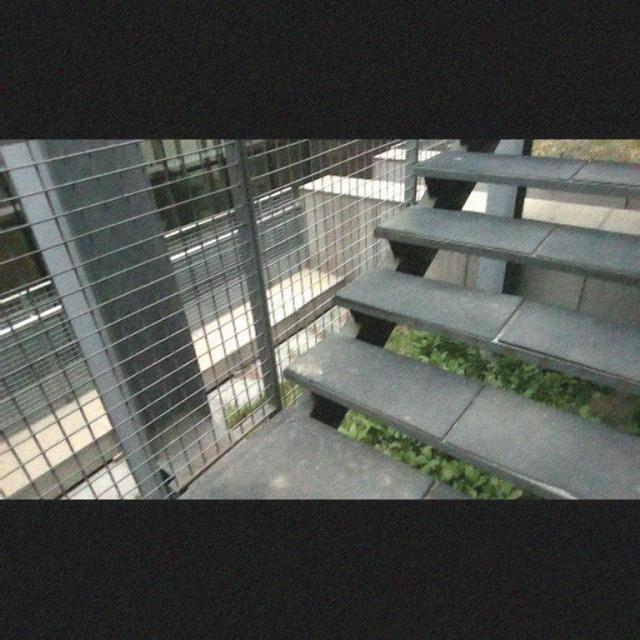stair: (382, 145, 640, 481)
